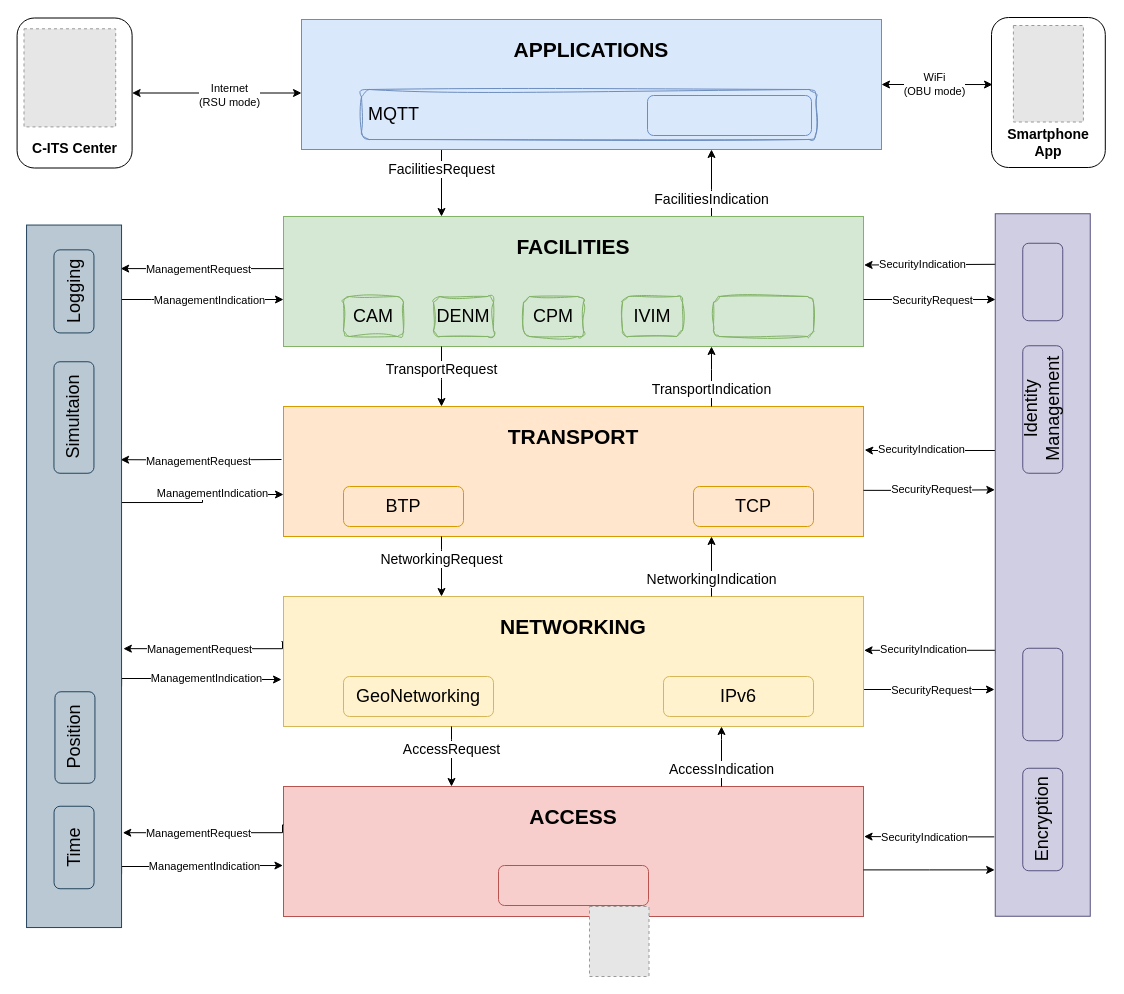
The diagram is 1124 pixels wide and 994 high, and some of its shapes have lost their labels. Grey dashed boxes stand in for pictures. Each missing label, with the centre of its shape:
"ITS-G5" goes at pixel 573 885.
"MANAGEMENT" goes at pixel 74 576.
"Message Fowarding" goes at pixel 729 115.
"Others" goes at pixel 763 316.
"PKI" goes at pixel 1042 281.
"SECURITY" goes at pixel 1042 564.
"Signing" goes at pixel 1042 694.
